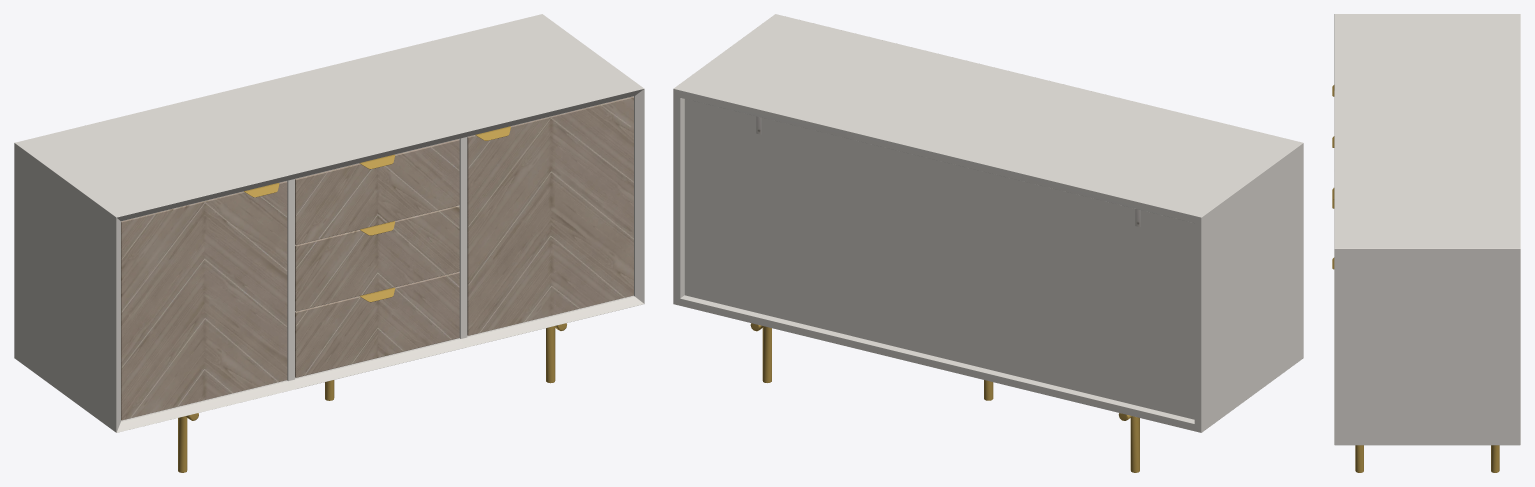
Rendered from abo-B07B7DMPX7.glb.
The picture shows the model from 3 angles, left to right: view 1: azimuth 30°, elevation 25°; view 2: azimuth 150°, elevation 25°; view 3: azimuth 270°, elevation 25°; orthographic projection. The views are drawn at different scales.
Size of the model in its own units: 1.5 by 0.769 by 0.508.
1 material, 1 textured.
